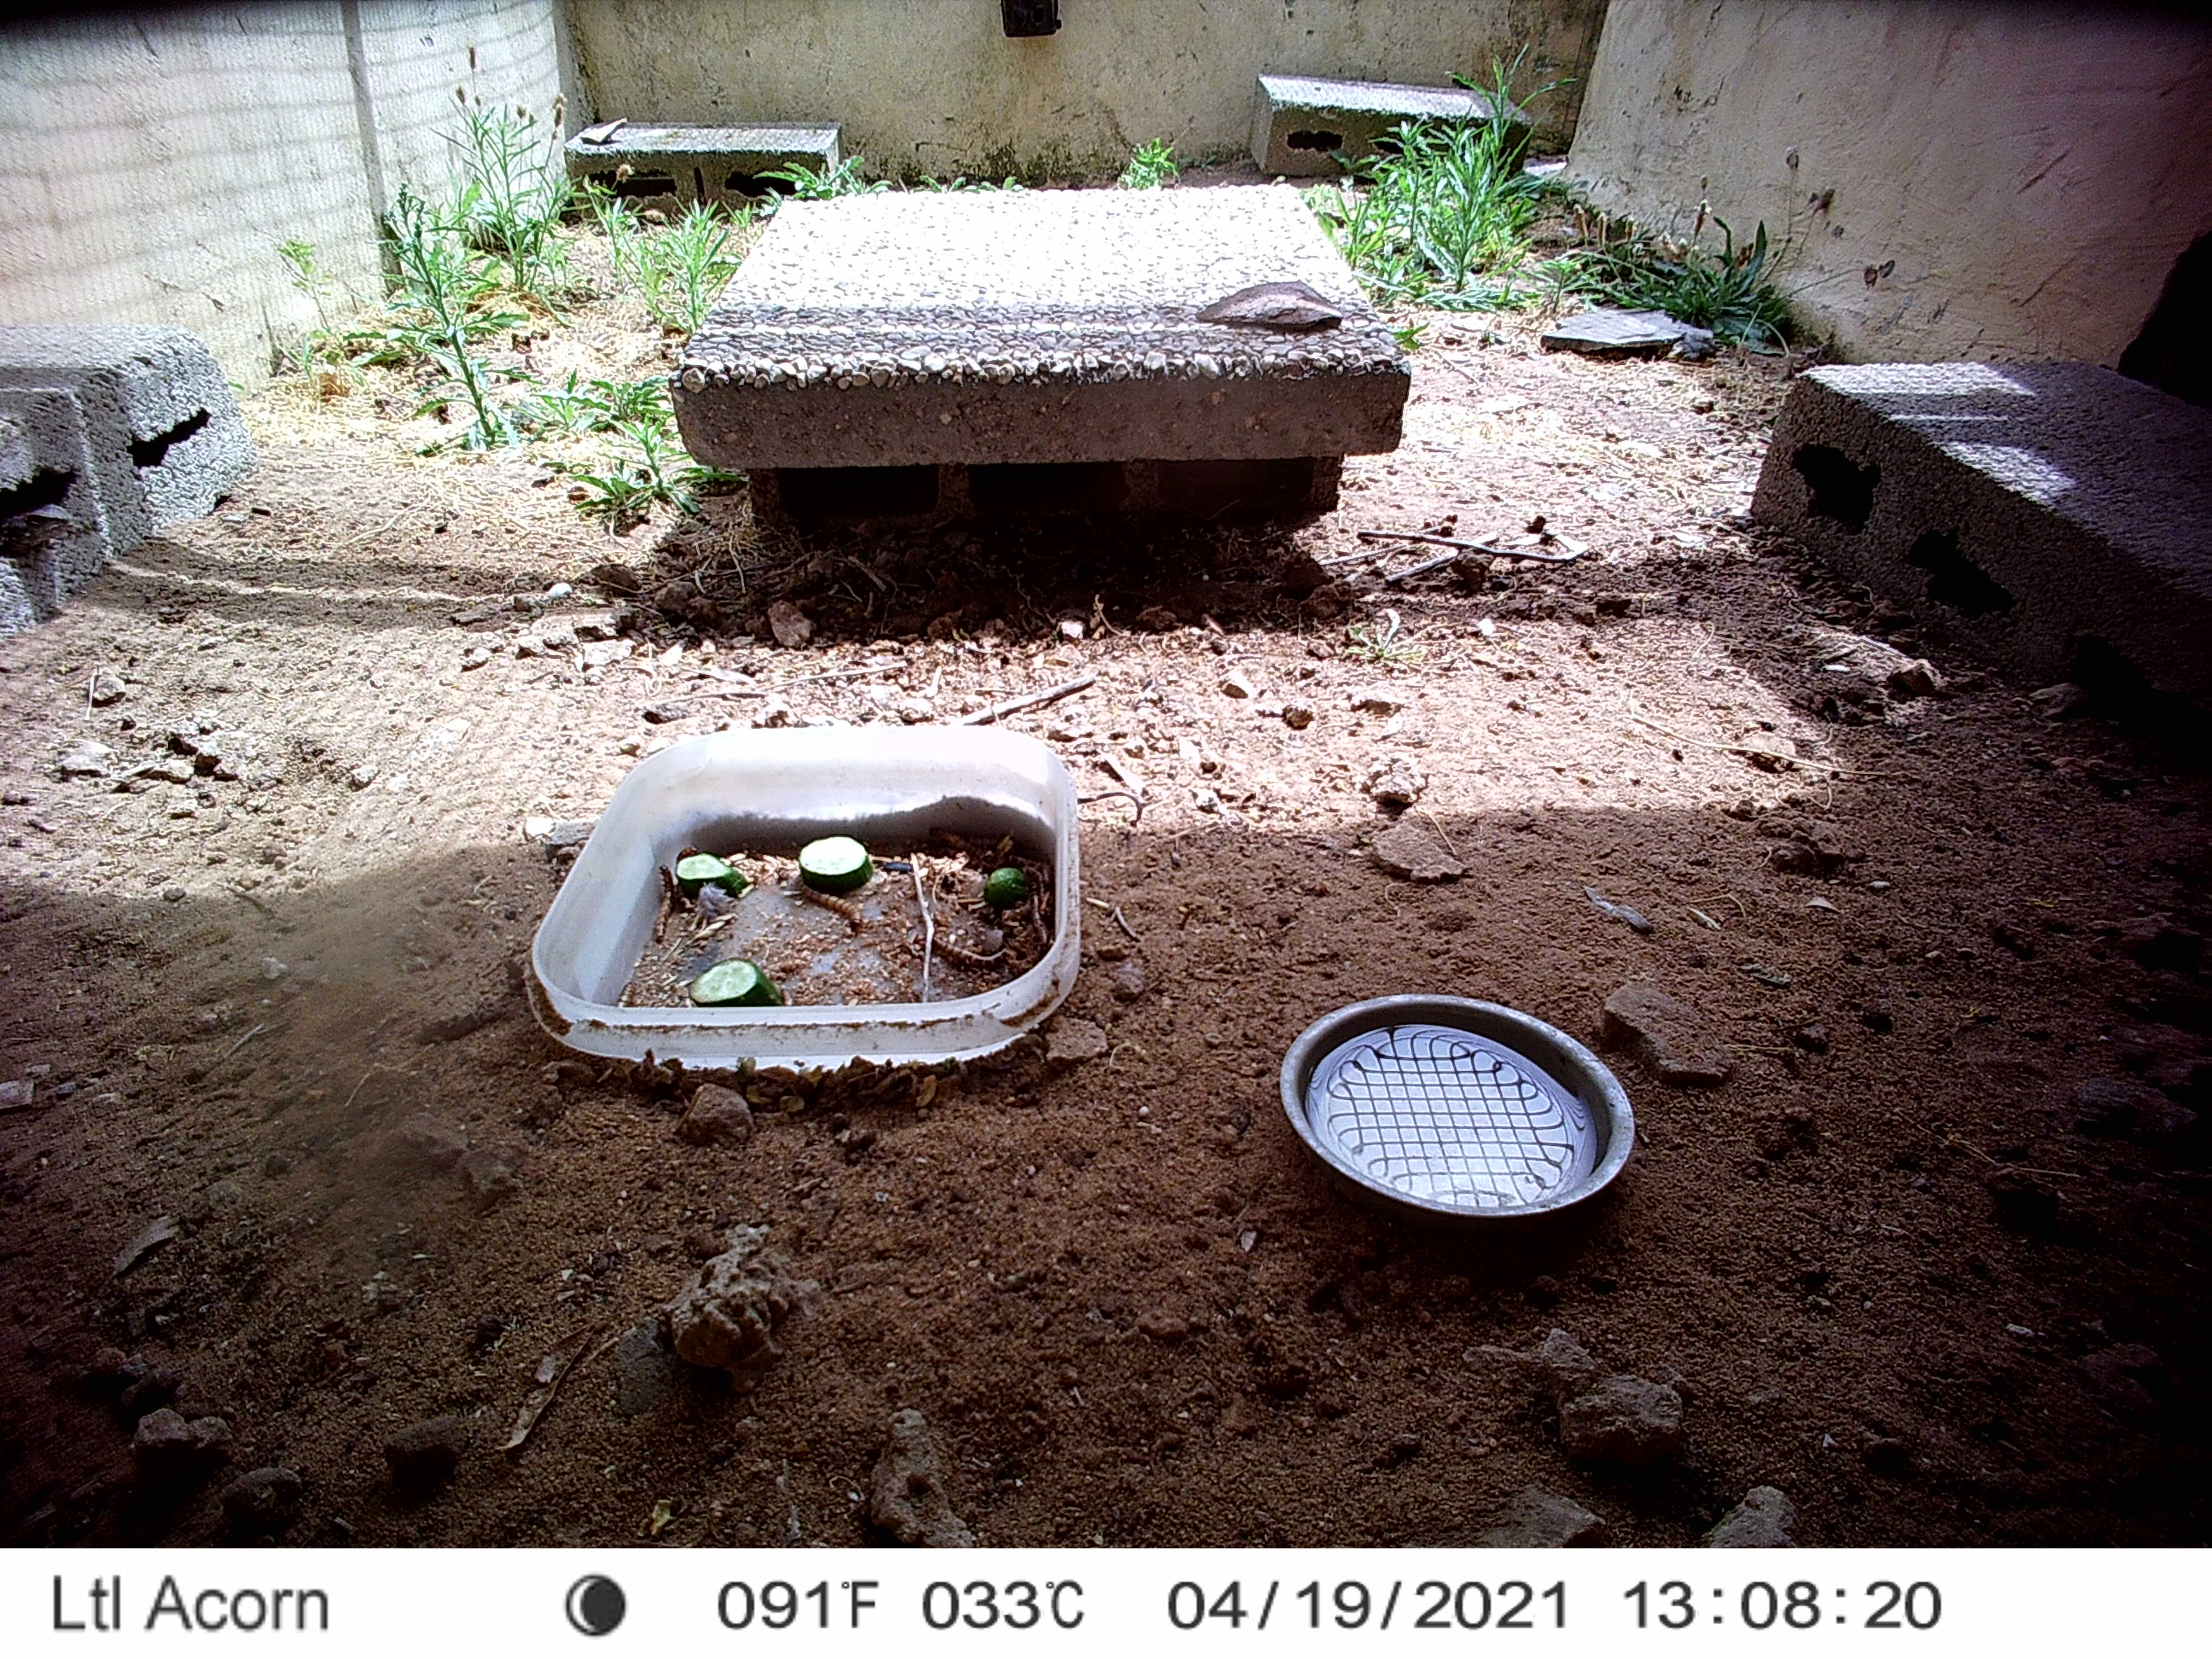lizard: (2, 493, 80, 573)
